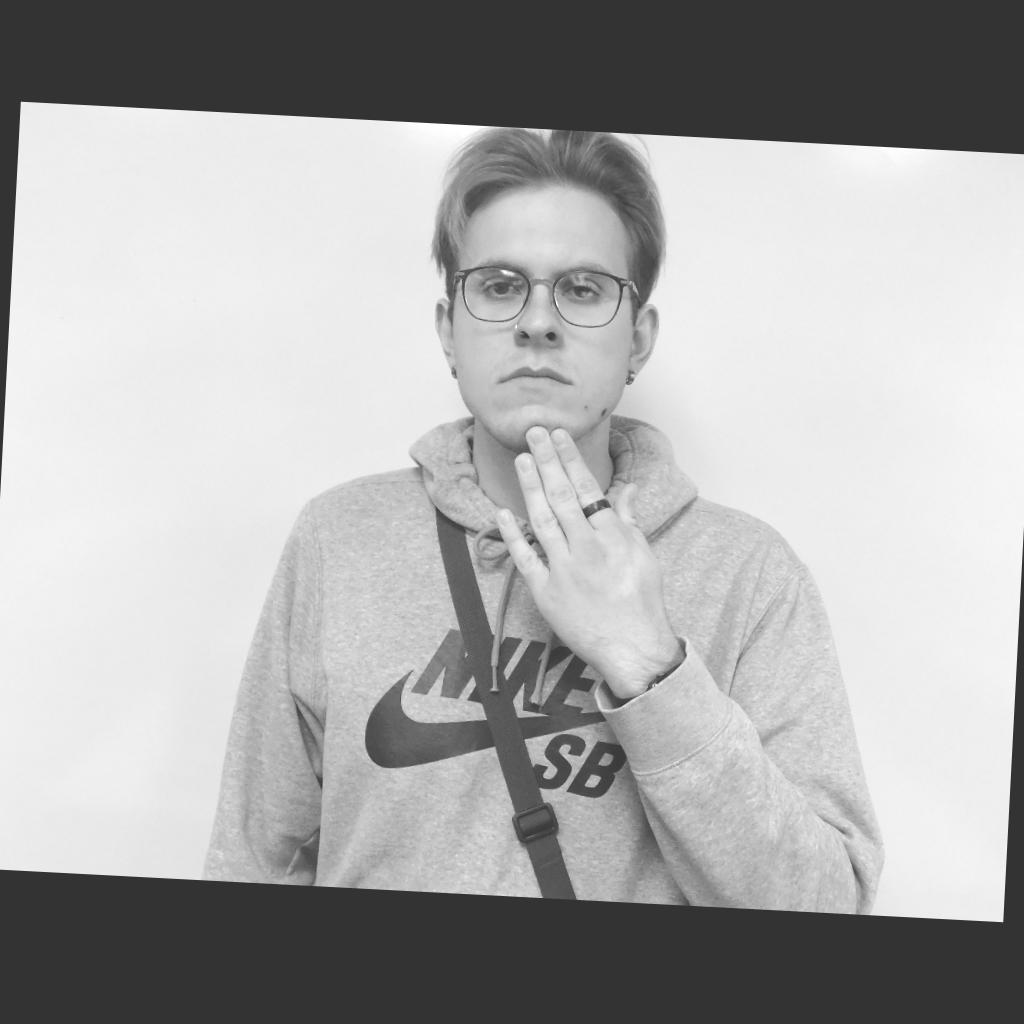thank-you: (492, 423, 672, 672)
